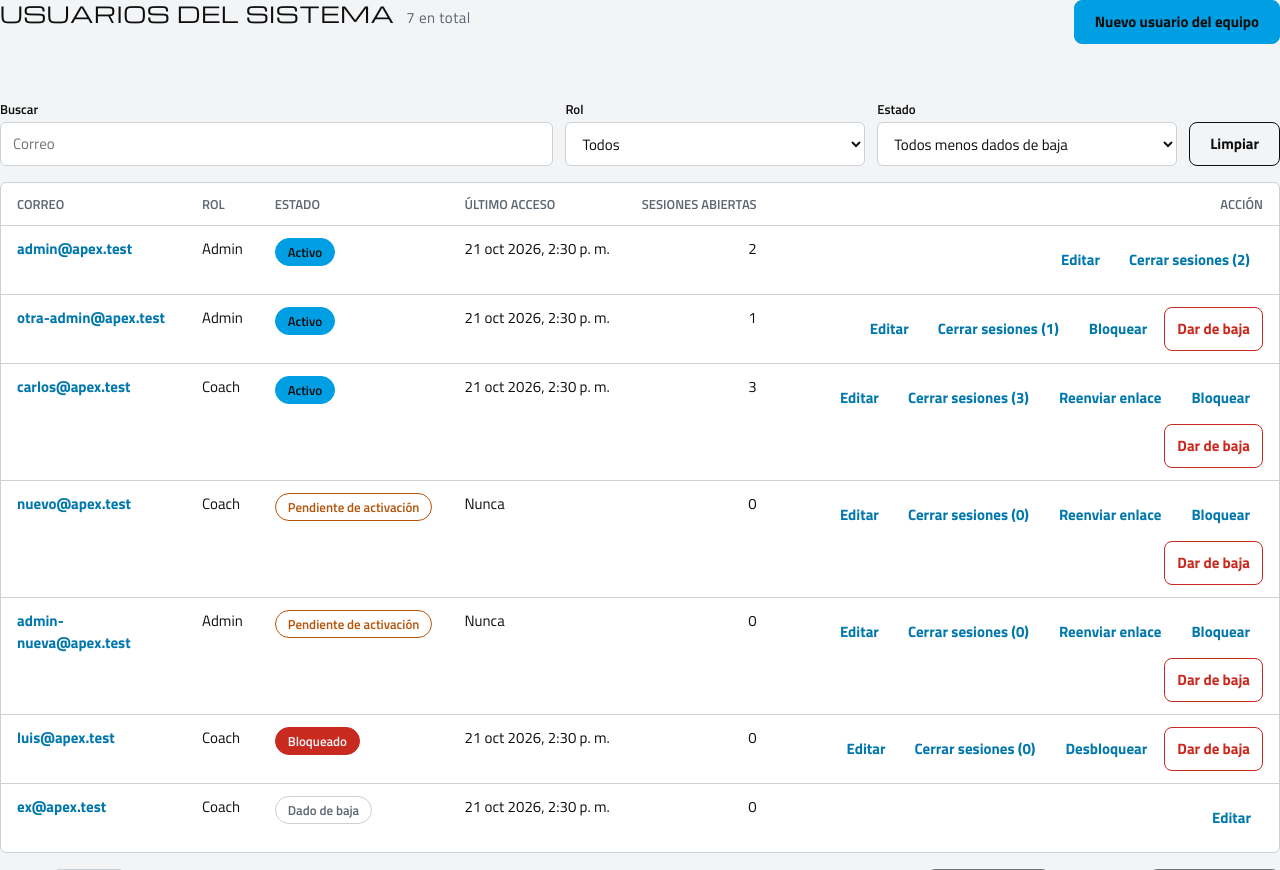
Test: UsersPage · cerrar sesiones (US-051) › una respuesta con forma inesperada no se presenta como éxito
Step 1. Click the button "Cerrar sesiones (3)" → (968, 398), box [895,376,1042,420]
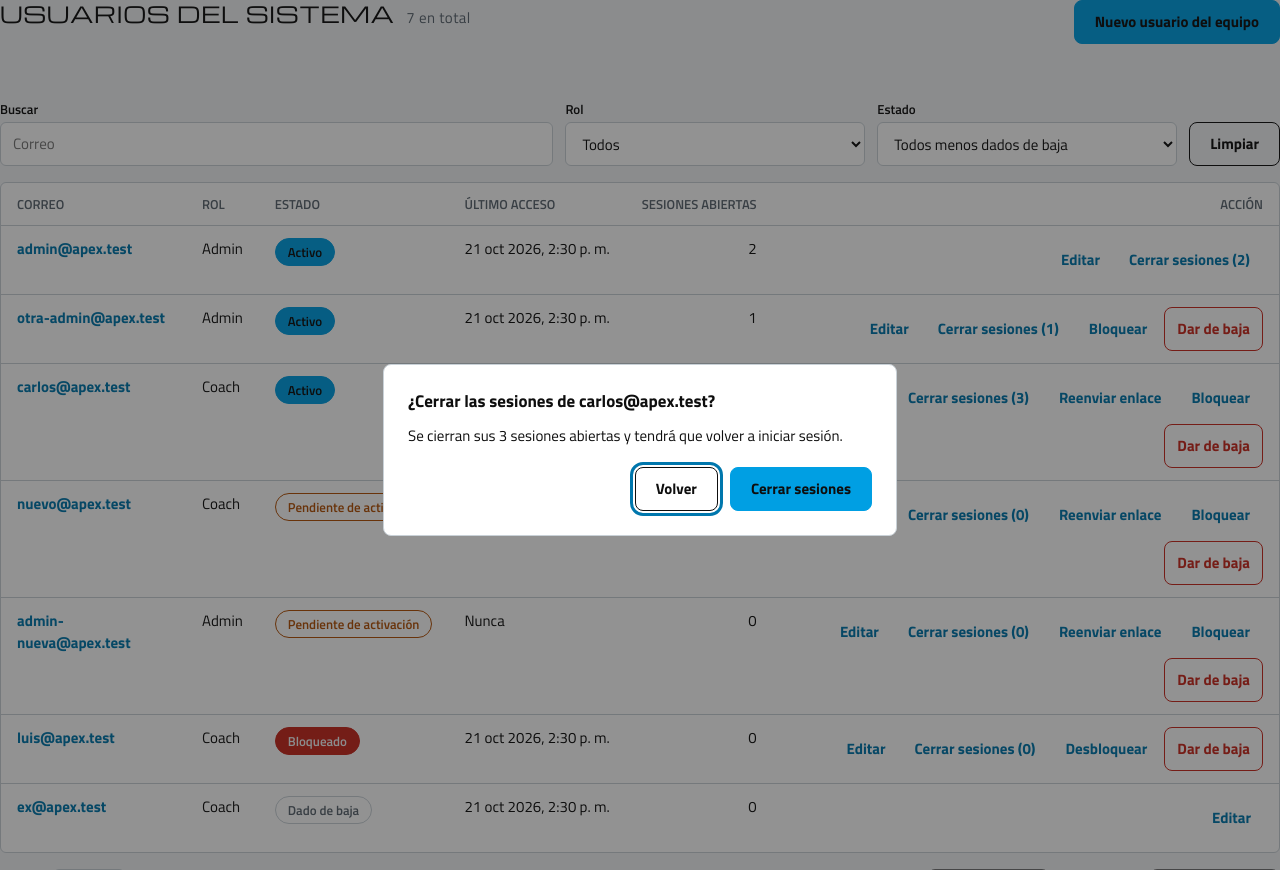
Step 2. Click the button "Cerrar sesiones" → (801, 489), box [730,467,872,511]
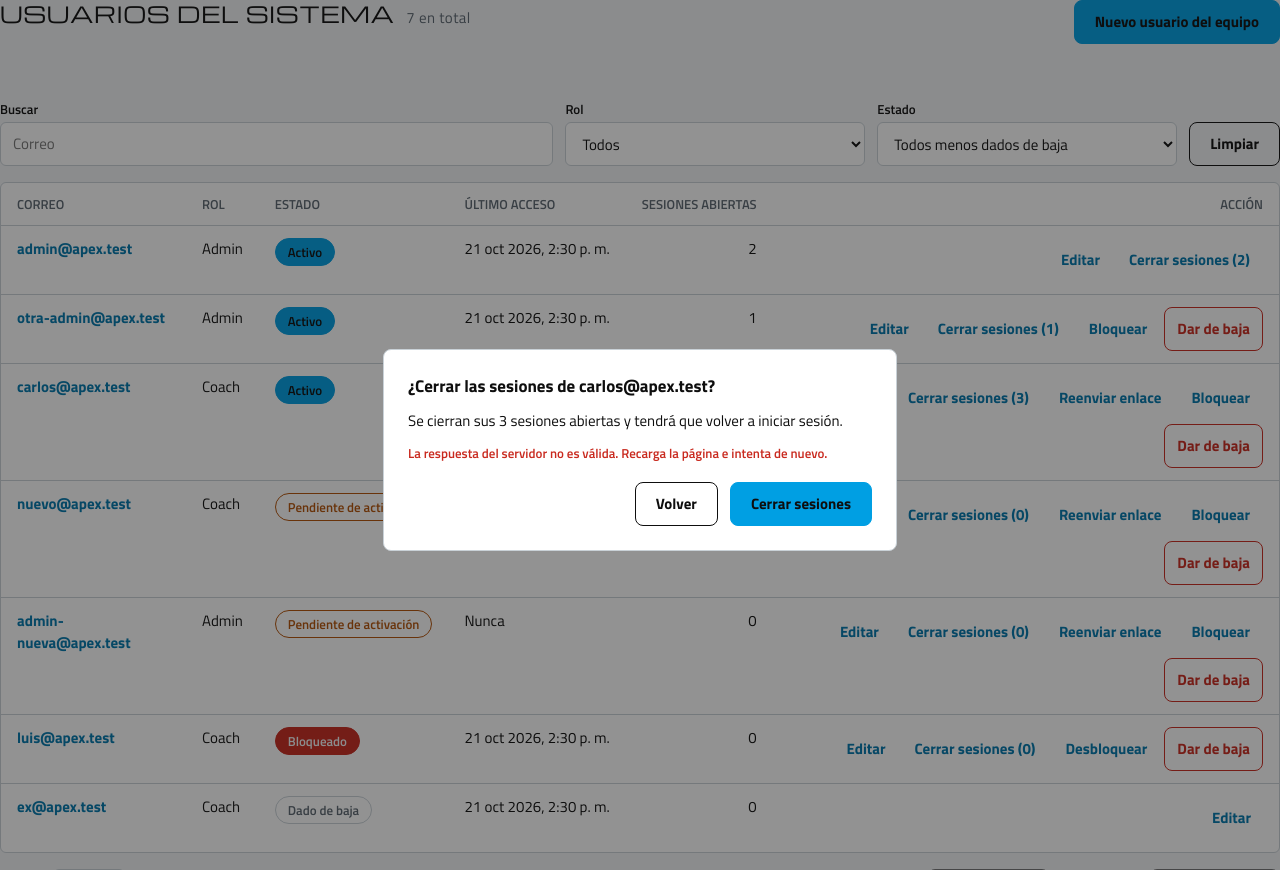
Expected: the message reads "La respuesta del servidor no es válida. Recarga la página e intenta de nuevo.", [408,443,828,463]
